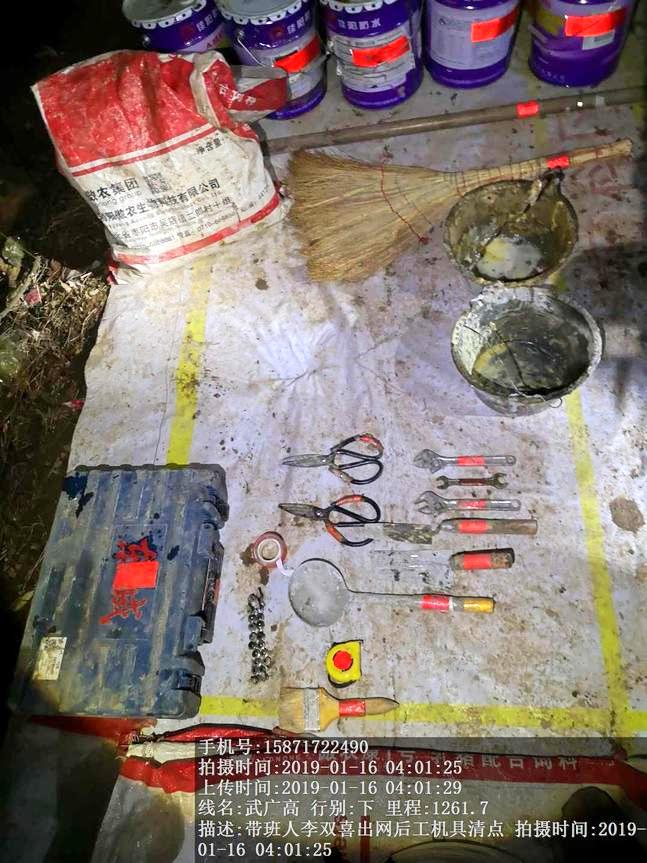SB: (285, 154, 451, 290)
SNT: (451, 280, 607, 422), (435, 191, 595, 277)
